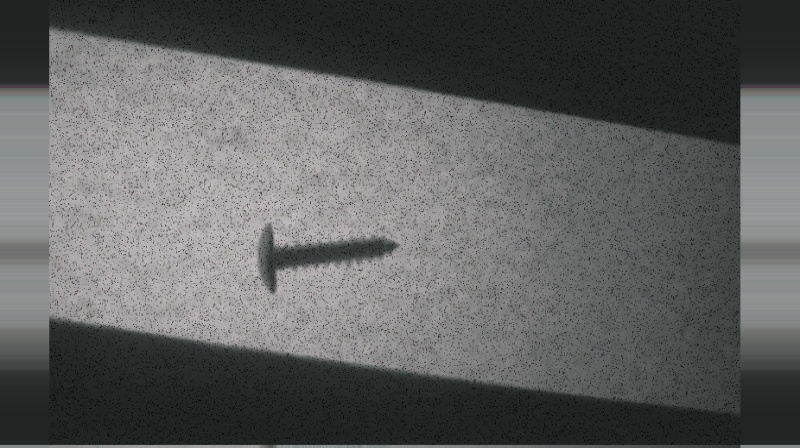S003: (252, 222, 404, 295)
